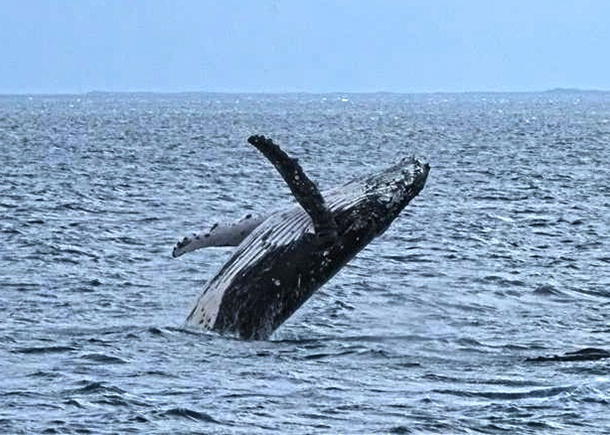humpback: (185, 159, 431, 336)
